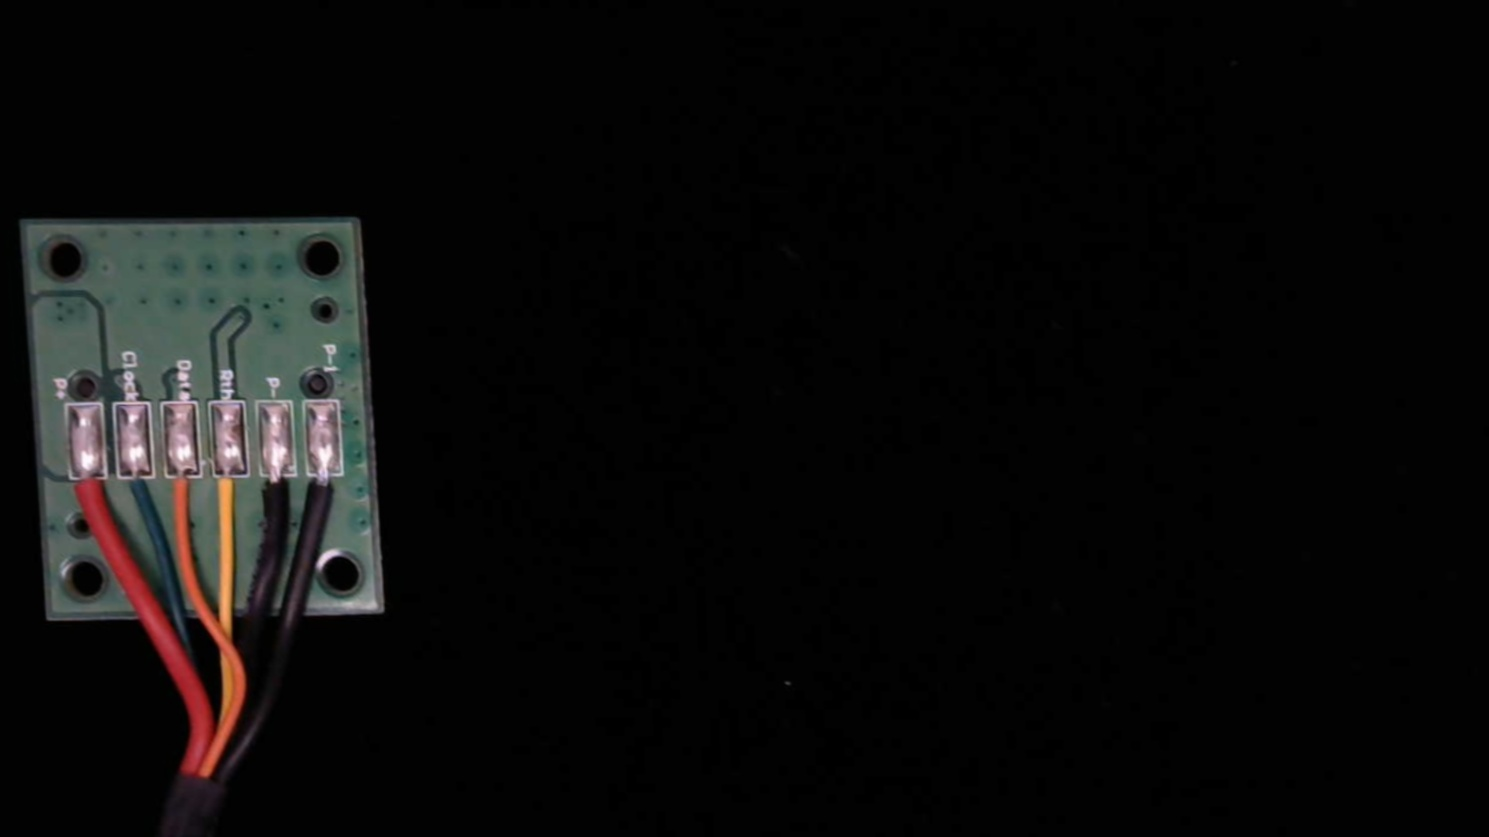Black: (257, 460, 298, 542)
Black1: (306, 460, 348, 540)
Green: (115, 459, 161, 542)
Orange: (165, 459, 208, 545)
Red: (66, 462, 112, 545)
Yellow: (207, 461, 253, 548)
